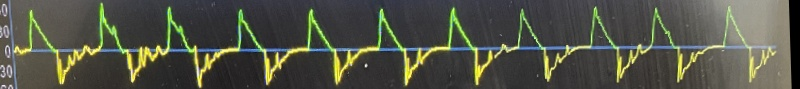hydrop_flow: (8, 1, 793, 89)
